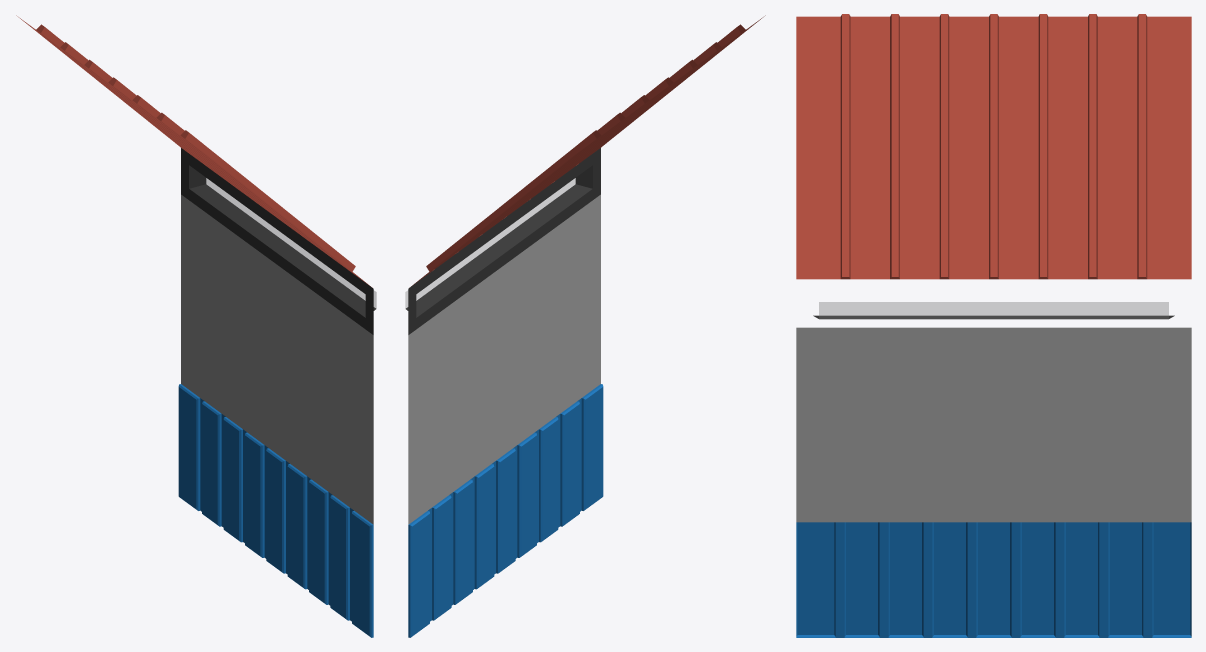
Rendered from Wall.fbx.
3 renders of one model, left to right at view 1: azimuth 30°, elevation 25°; view 2: azimuth 150°, elevation 25°; view 3: azimuth 270°, elevation 25°, orthographic. The views are drawn at different scales.
Parts seen in each view (by area): view 1: Wall; view 2: Wall; view 3: Wall.
Part boxes in pixels (x1,y1,x2,y2): Wall: (16,15,376,637); Wall: (405,15,765,637); Wall: (796,14,1191,637).
Size of the model in its own units: 325 by 908 by 600.
